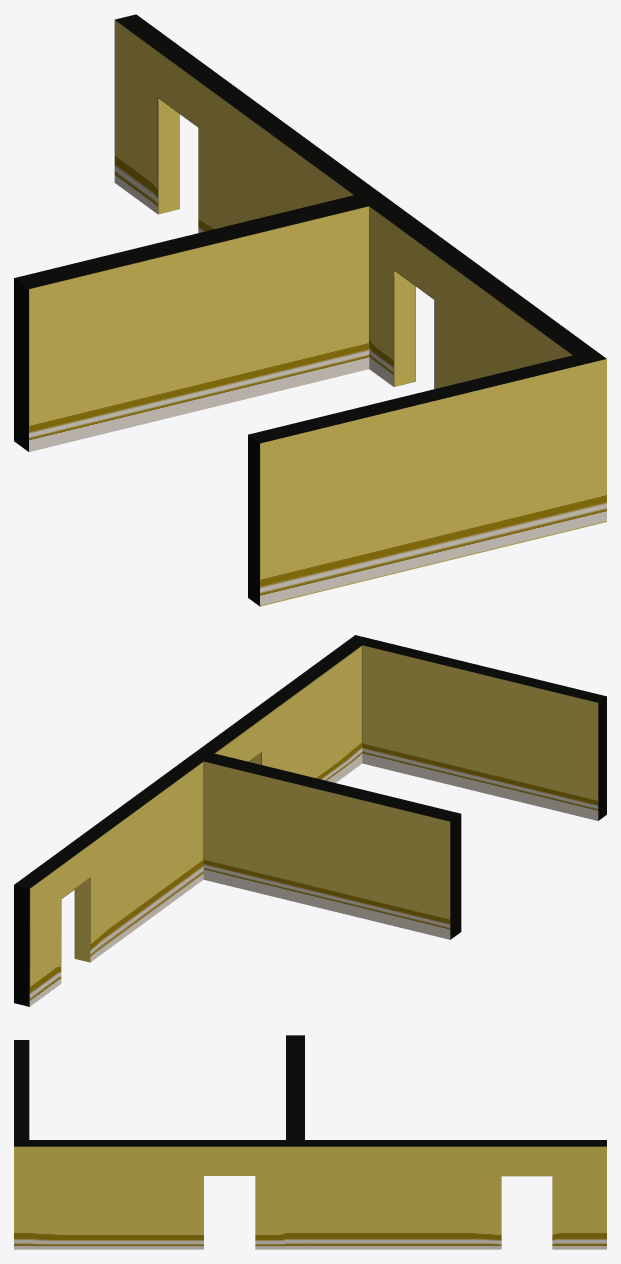
The model's file is School Classroom Left Side.fbx.
3 views of the same model, one above another, from view 1: azimuth 30°, elevation 25°; view 2: azimuth 150°, elevation 25°; view 3: azimuth 270°, elevation 25° (orthographic). The views are drawn at different scales.
Visible parts, largest first — view 1: Classroom2; view 2: Classroom2; view 3: Classroom2.
Boxes of the visible parts, <box> form: Classroom2: <box>14,14,606,606</box>; Classroom2: <box>14,635,606,1006</box>; Classroom2: <box>14,1035,606,1249</box>.
Bounding box in the file's own units: 968 × 417 × 2180.
Materials: 1 (1 with a texture image).
